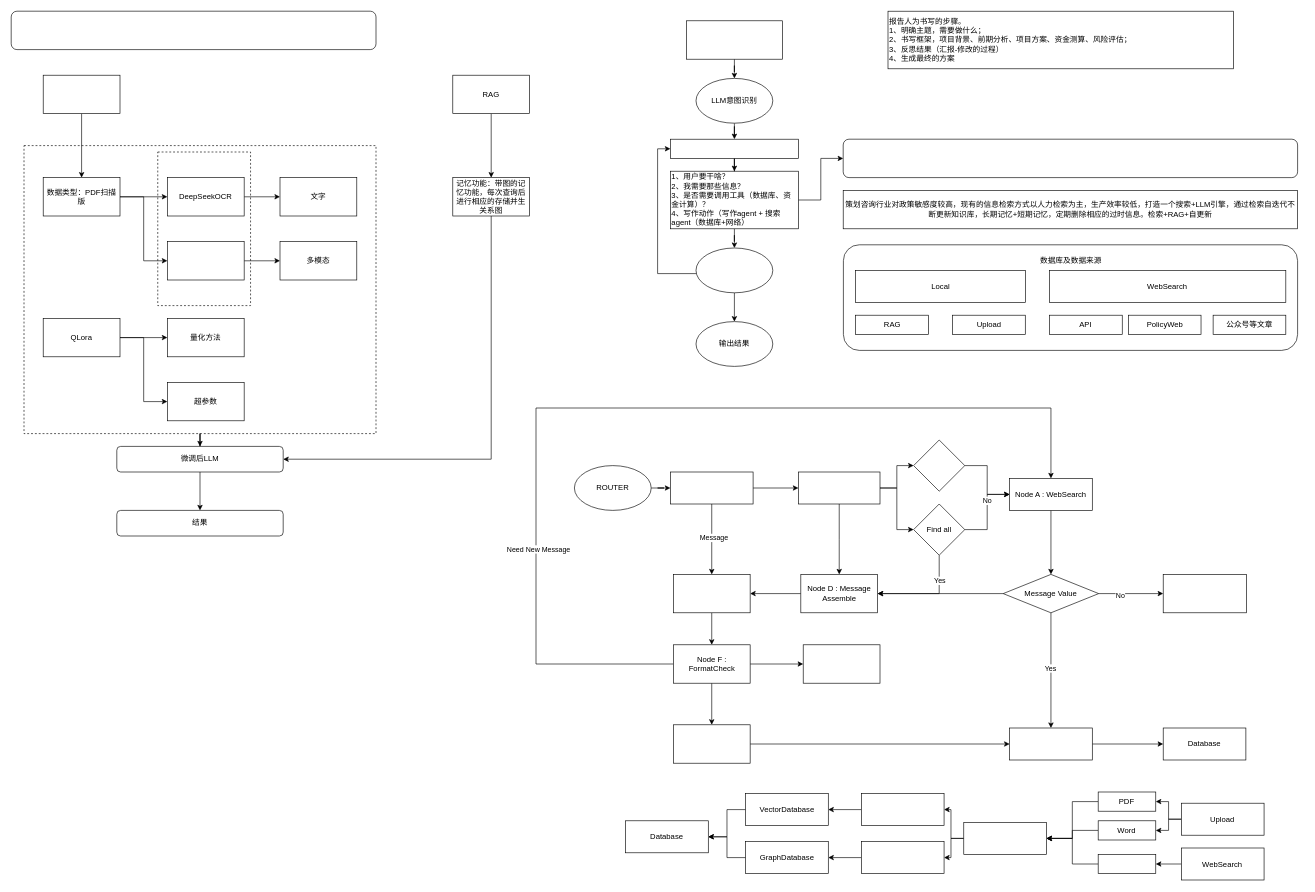
This 1315x892 diagram has some shape labels left out. The box of each missing label's shape, as (x1, y1, x2, y2) in pixels:
Chunk: (861, 793, 944, 826)
Drop: (1163, 574, 1246, 613)
Evaluate & Merge: (913, 439, 965, 491)
FileExtracion: (963, 822, 1046, 854)
HTML: (1098, 854, 1156, 874)
KG: (861, 841, 944, 874)
Node B : Local: (798, 471, 880, 504)
Node C: memory update: (1009, 727, 1092, 760)
Node E : Writing: (673, 574, 750, 613)
Plan: (670, 139, 798, 158)
Result: (673, 724, 750, 763)
SearchPolicy: (670, 471, 753, 504)
Skill: Format. Calculation: (803, 644, 880, 683)
User Query：帮我写一下xx项目的风险控制部分，并且找一下相关政策支持或者禁止的地方: (686, 20, 782, 59)
图片: (167, 241, 244, 280)
政策检索+知识库: (843, 139, 1298, 178)
模型微调: (11, 11, 376, 50)
目标：清洗用于微调的案例数据: (43, 75, 120, 114)
结果反思: (695, 247, 773, 293)
